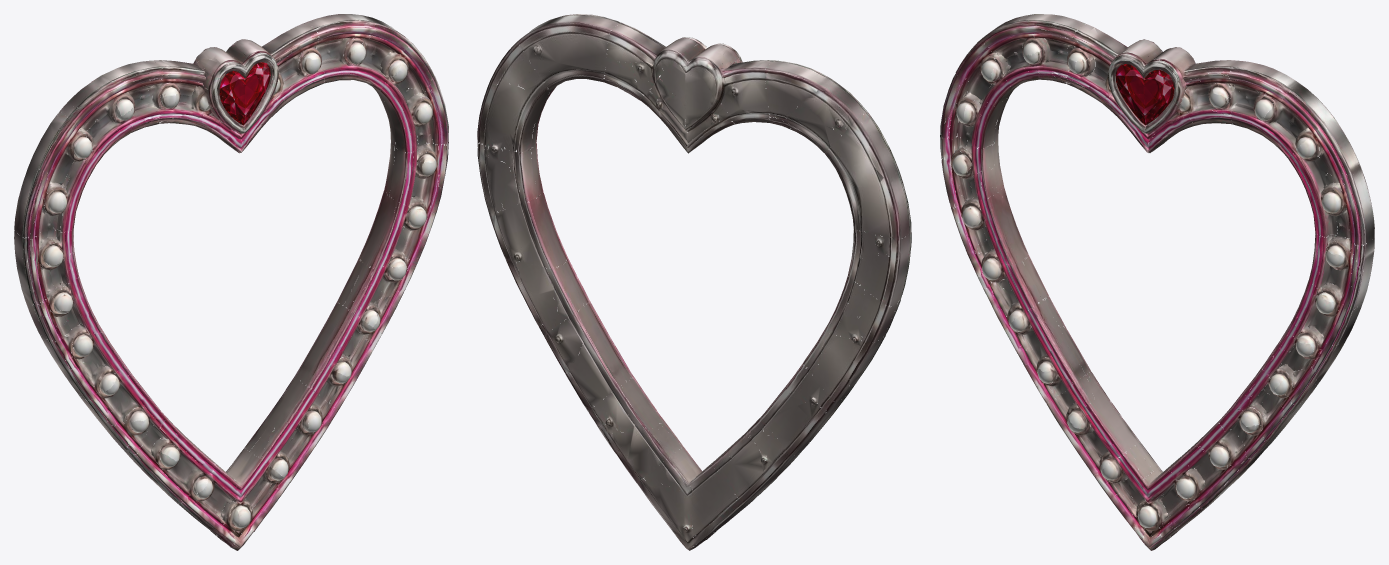
Rendered from heart-direction-portal-v003-balanced-review.glb.
The picture shows the model from 3 angles, left to right: view 1: azimuth 30°, elevation 25°; view 2: azimuth 150°, elevation 25°; view 3: azimuth 330°, elevation 25°; orthographic projection.
Visible parts, largest first — view 1: HD_PORTAL_WORKING_v001_WEB_balanced, HD_Ruby_Edge_Cleanup_WEB_balanced; view 2: HD_PORTAL_WORKING_v001_WEB_balanced; view 3: HD_PORTAL_WORKING_v001_WEB_balanced, HD_Ruby_Edge_Cleanup_WEB_balanced.
Part boxes in pixels (x1,y1,x2,y2): HD_PORTAL_WORKING_v001_WEB_balanced: (14,14,448,550); HD_Ruby_Edge_Cleanup_WEB_balanced: (219,62,270,125); HD_PORTAL_WORKING_v001_WEB_balanced: (477,14,911,550); HD_PORTAL_WORKING_v001_WEB_balanced: (940,14,1374,550); HD_Ruby_Edge_Cleanup_WEB_balanced: (1115,64,1174,125).
Size of the model in its own units: 1.13 by 1.28 by 0.116.
Materials: 2 (2 with a texture image).
